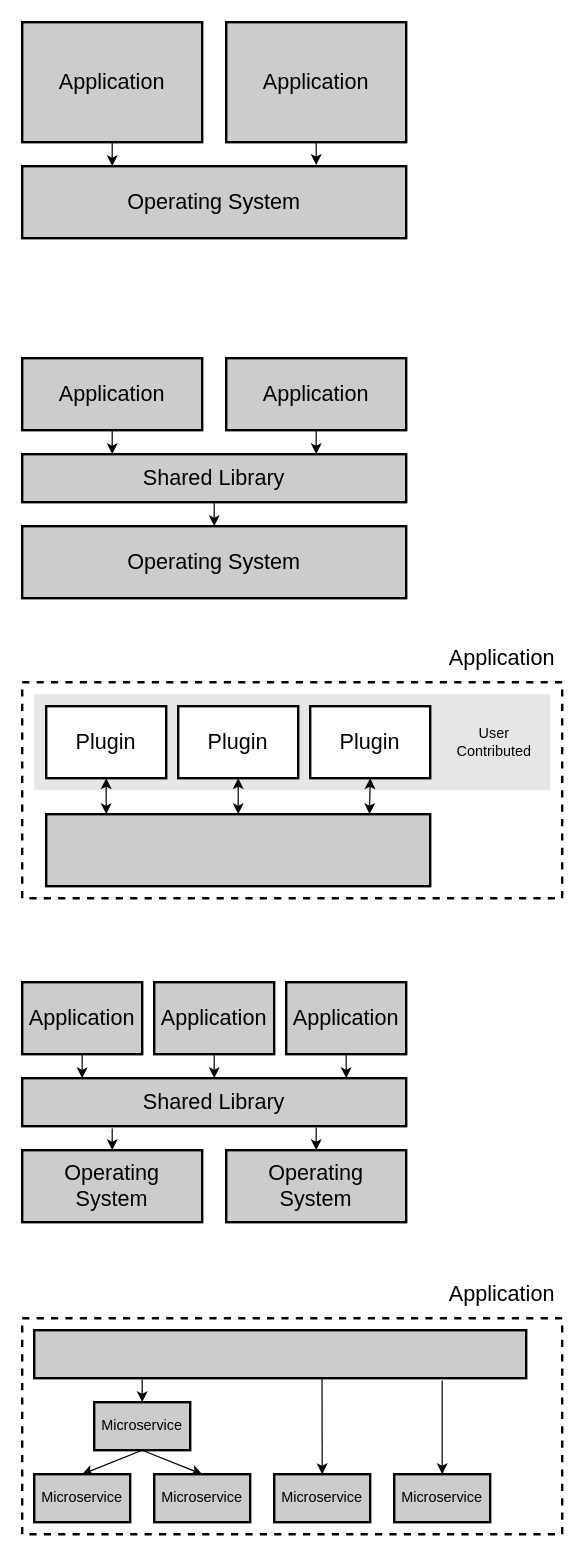
This 583x1555 diagram has some shape labels left out. Here are the shapes that lost their labels. From the top down, the centre of each, then its label:
(x=237, y=849): Base Application
(x=279, y=1353): User Interface
